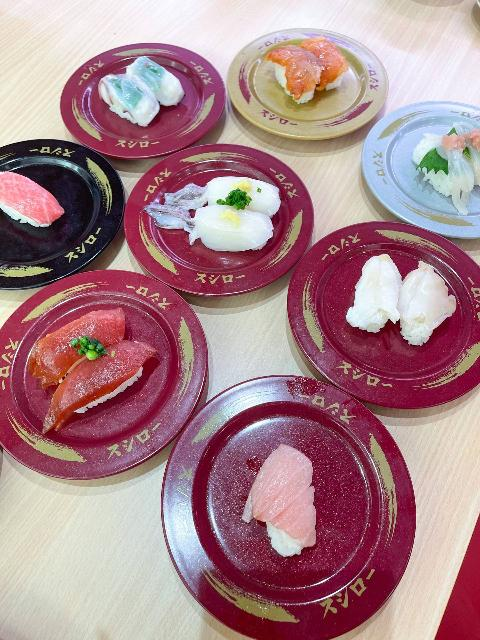janred: (190, 414, 403, 613), (26, 280, 193, 462), (293, 256, 480, 383), (128, 158, 300, 293), (0, 145, 115, 267), (82, 49, 222, 141)
